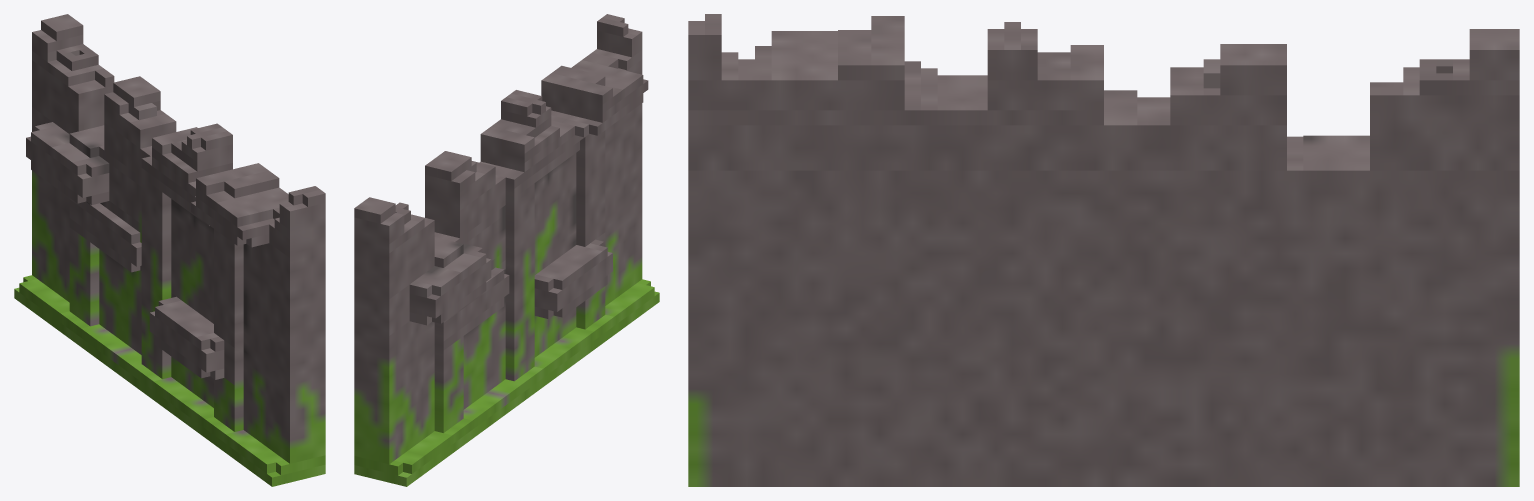
The model's file is Ruin_Wall_1_damaged.fbx.
3 renders of one model, left to right at view 1: azimuth 30°, elevation 25°; view 2: azimuth 150°, elevation 25°; view 3: azimuth 270°, elevation 25°, orthographic. The views are drawn at different scales.
Visible parts, largest first — view 1: Ruin_Wall_1_damaged; view 2: Ruin_Wall_1_damaged; view 3: Ruin_Wall_1_damaged.
Boxes of the visible parts, box(x1,y1,x2,y2) form: Ruin_Wall_1_damaged: box(14, 14, 325, 486); Ruin_Wall_1_damaged: box(354, 14, 659, 486); Ruin_Wall_1_damaged: box(688, 14, 1519, 486).
Bounding box in the file's own units: 7 × 30 × 50.
Materials: 1 (1 with a texture image).
